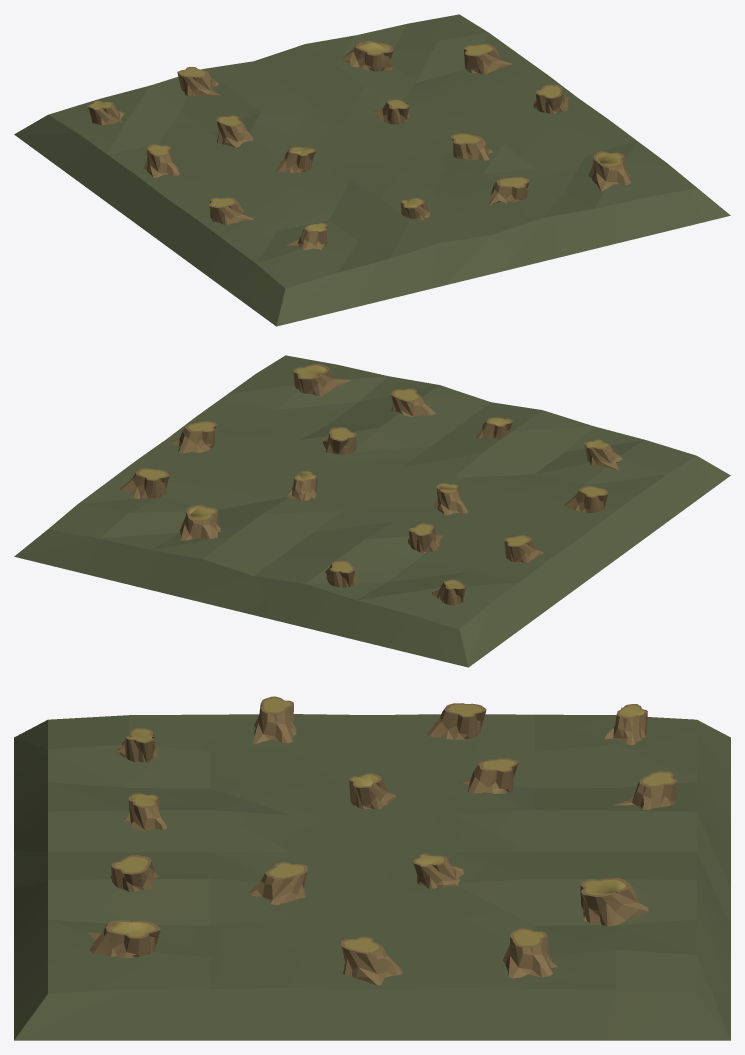
File: shopped8x8.FBX
3 views of the same model, one above another, from view 1: azimuth 30°, elevation 25°; view 2: azimuth 150°, elevation 25°; view 3: azimuth 270°, elevation 25° (orthographic). The views are drawn at different scales.
Visible parts, largest first — view 1: Plane005; view 2: Plane005; view 3: Plane005.
Boxes of the visible parts, x1=… form: Plane005: x1=14, y1=14, x2=730, y2=326; Plane005: x1=14, y1=355, x2=730, y2=667; Plane005: x1=14, y1=696, x2=730, y2=1040.
Bounding box in the file's own units: 8.84 × 8.84 × 0.8139.
